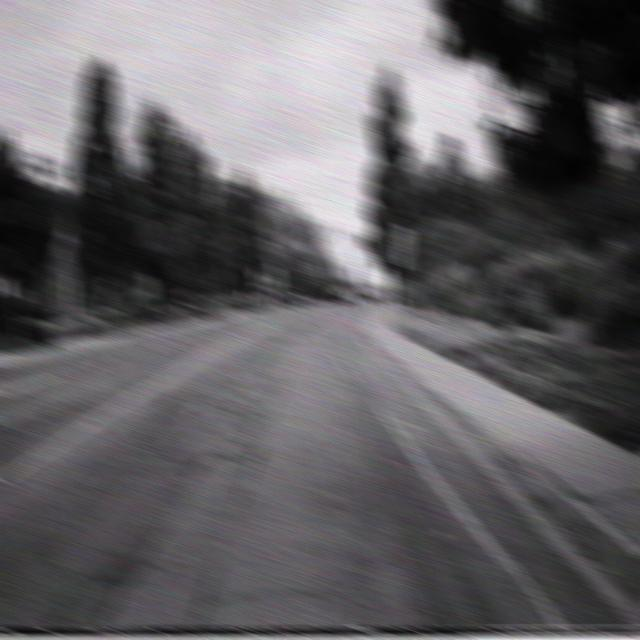speedLimit35: (392, 223, 412, 255)
